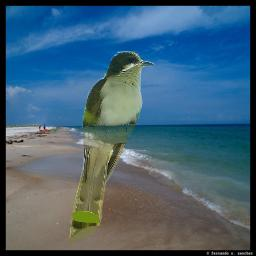Cuckoo: (69, 51, 155, 243)
